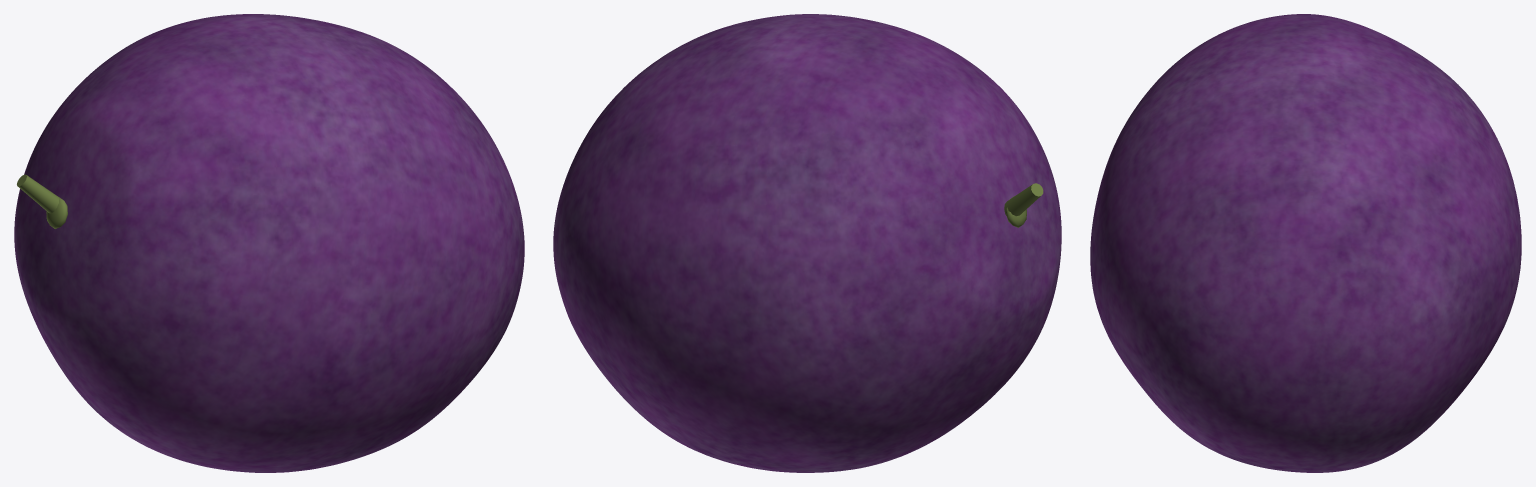
Rendered from grape.glb.
3 views of the same model, side by side, from view 1: azimuth 30°, elevation 25°; view 2: azimuth 150°, elevation 25°; view 3: azimuth 270°, elevation 25° (orthographic). The views are drawn at different scales.
Visible parts, largest first — view 1: grape; view 2: grape; view 3: grape.
Part boxes in pixels (x1,y1,x2,y2): grape: [14, 14, 524, 472]; grape: [553, 14, 1061, 472]; grape: [1090, 14, 1521, 472].
Bounding box in the file's own units: 2 × 1.74 × 1.74.
2 materials, 1 textured.
